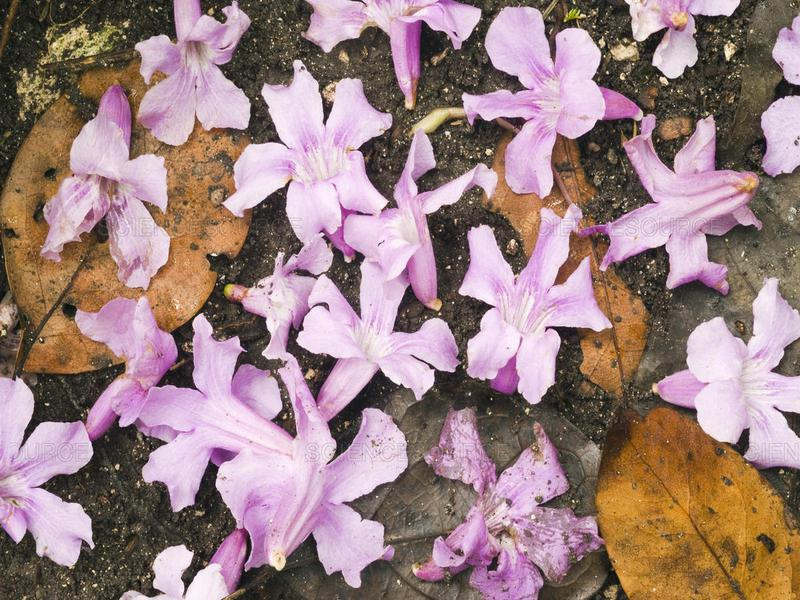flowers: (2, 203, 641, 600), (221, 1, 486, 250), (36, 1, 254, 287), (458, 10, 647, 200), (596, 108, 769, 298), (650, 276, 800, 478)
